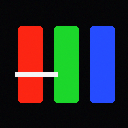3 line_h: (15, 72, 57, 76)
